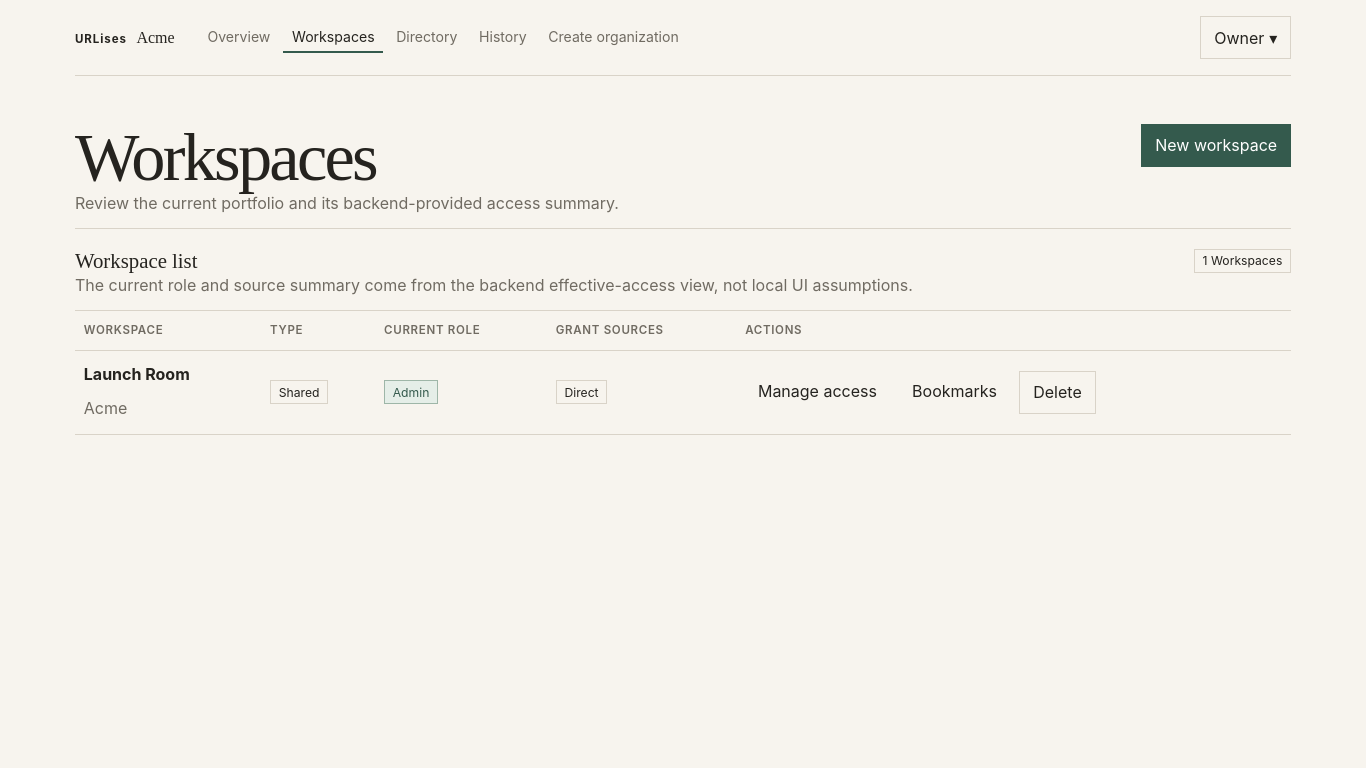
Test case: workspaces page › opens the delete confirmation panel via URL search params and sends no request on open
Click the button with aria-label "delete launch room" at (1057, 392), box [1019,371,1096,414]
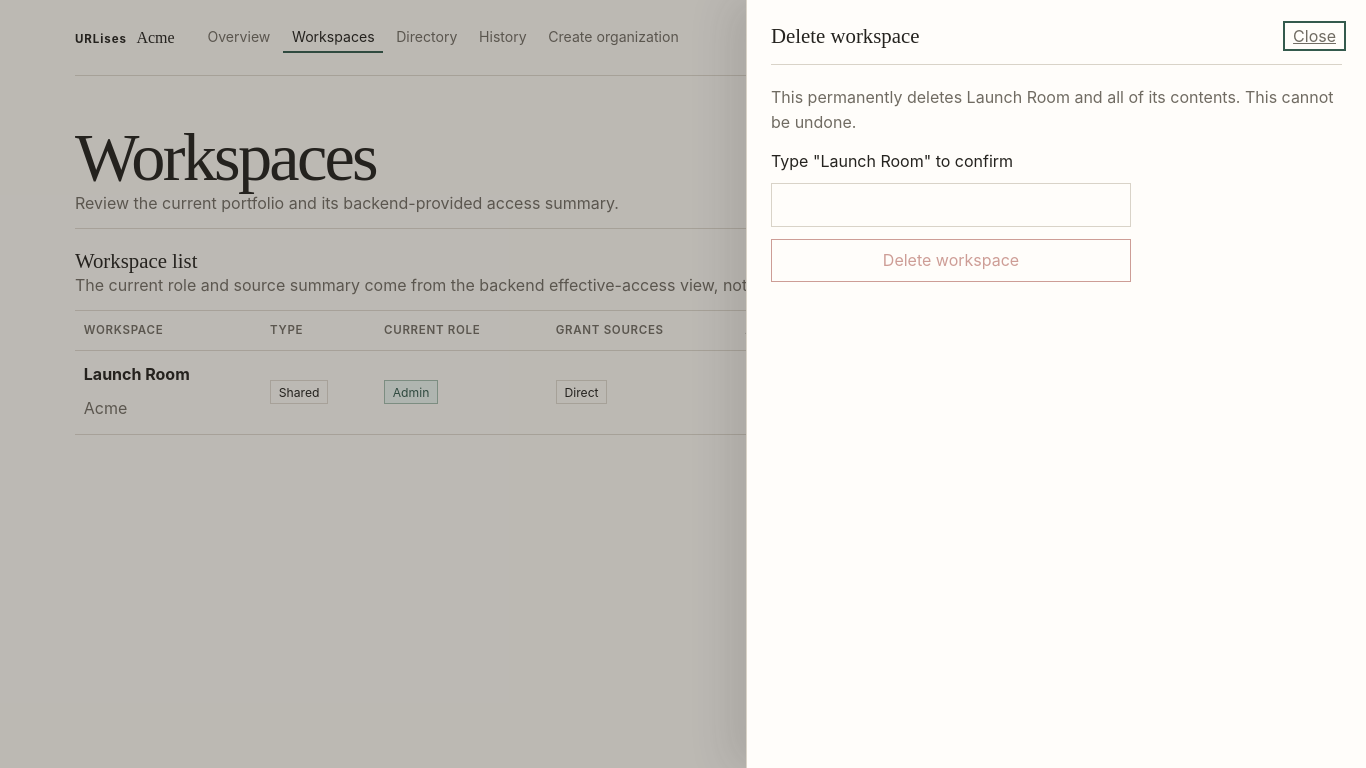
Now the text "Type \"Launch Room\" to confirm" is shown, box [771,151,1013,171]
